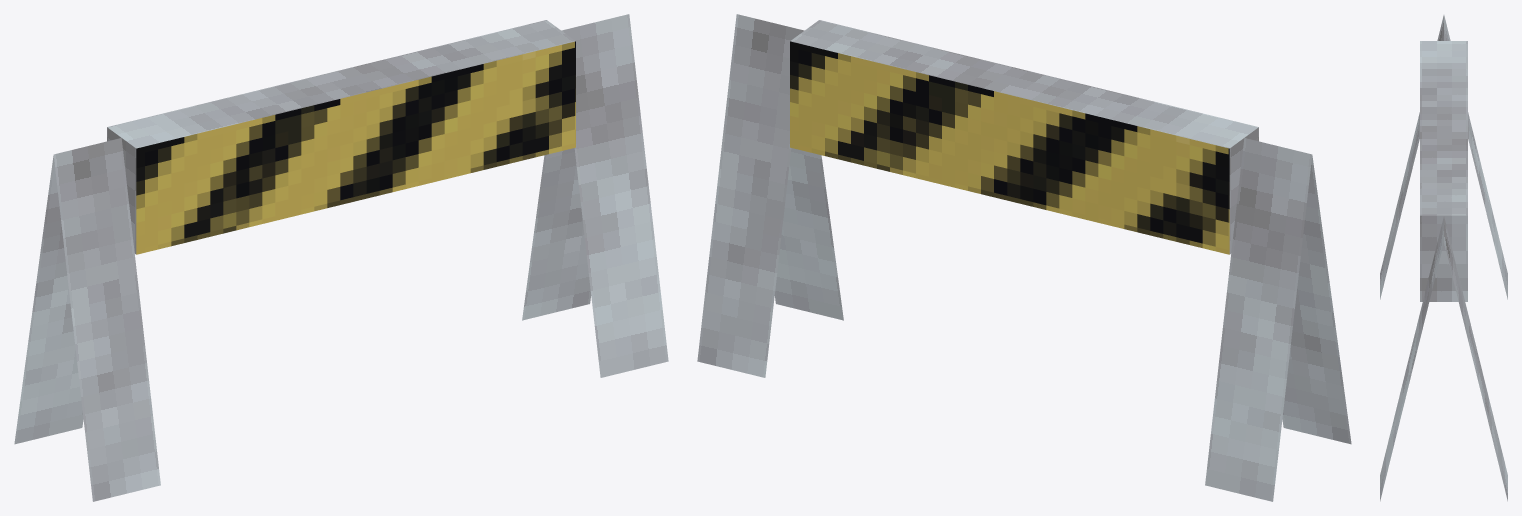
The model's file is detail_barrier_type_b.glb.
3 renders of one model, left to right at view 1: azimuth 30°, elevation 25°; view 2: azimuth 150°, elevation 25°; view 3: azimuth 270°, elevation 25°, orthographic. The views are drawn at different scales.
Parts seen in each view (by area): view 1: detail-barrier-type-b; view 2: detail-barrier-type-b; view 3: detail-barrier-type-b.
Part boxes in pixels (<box>): detail-barrier-type-b: <box>14,14,668,501</box>; detail-barrier-type-b: <box>697,14,1351,501</box>; detail-barrier-type-b: <box>1380,15,1507,501</box>.
Size of the model in its own units: 0.567 by 0.3 by 0.134.
Materials: 2 (2 with a texture image).
